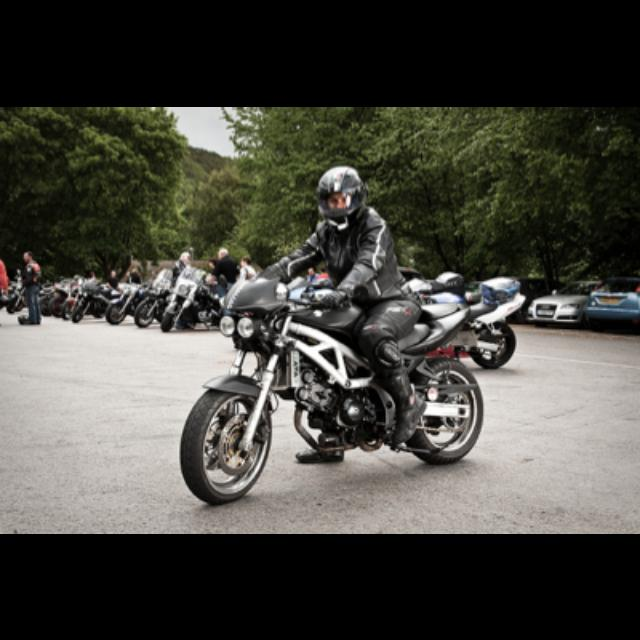With Helmet: (312, 162, 366, 230)
